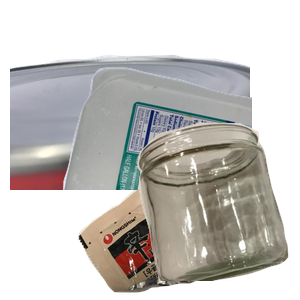glass: (135, 120, 300, 300)
metal: (10, 52, 250, 232)
plastic: (60, 65, 300, 245)
trash: (76, 170, 300, 300)
